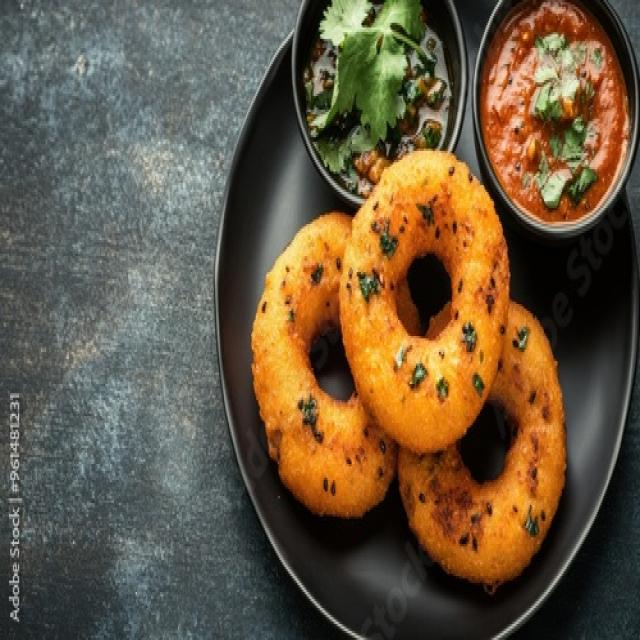MEDU VADA: (339, 152, 511, 454), (398, 300, 566, 583), (253, 212, 398, 532)
